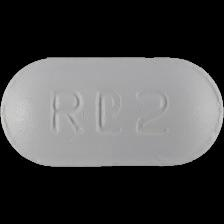61786-774: (0, 0, 224, 224)
